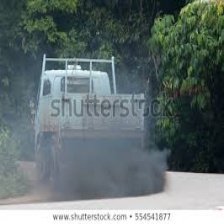smoke: (1, 135, 175, 200)
